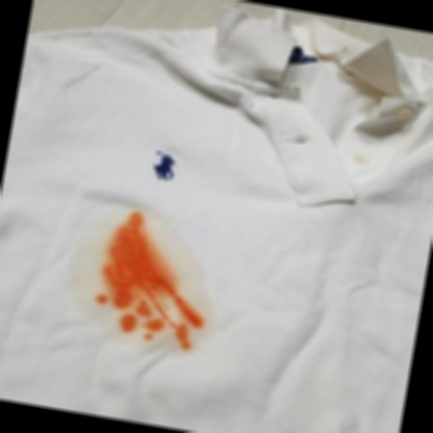kimchi: (62, 200, 223, 353), (103, 246, 179, 291), (110, 207, 160, 253), (170, 297, 217, 331), (170, 324, 200, 352), (132, 293, 158, 320), (107, 287, 132, 315), (115, 309, 139, 336), (142, 313, 166, 333), (93, 290, 106, 306), (139, 330, 153, 343)
